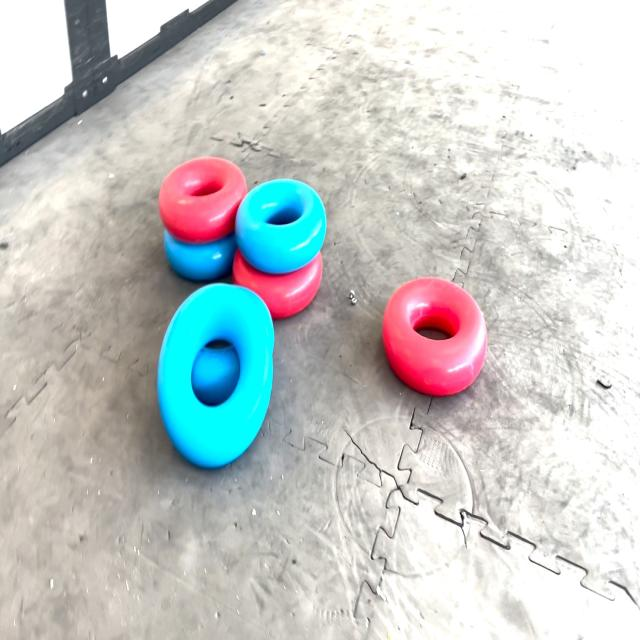Blue-Ring: (158, 282, 274, 468), (235, 180, 326, 273), (164, 229, 238, 280)
Red-Ring: (382, 278, 488, 396), (159, 158, 248, 244), (232, 249, 322, 319)
